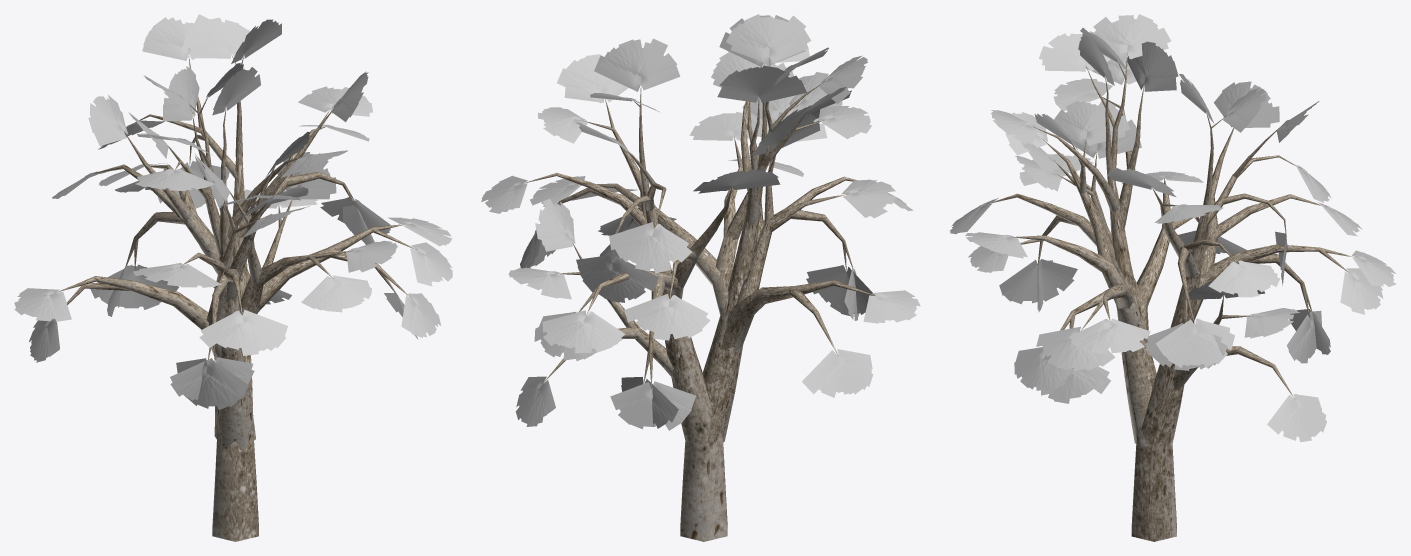
File: Desert1Trees.fbx
The picture shows the model from 3 angles, left to right: view 1: azimuth 30°, elevation 25°; view 2: azimuth 150°, elevation 25°; view 3: azimuth 270°, elevation 25°; orthographic projection. The views are drawn at different scales.
Parts seen in each view (by area): view 1: DesertTreeLeaves1_LOD0, DesertTree1_LOD0; view 2: DesertTreeLeaves1_LOD0, DesertTree1_LOD0; view 3: DesertTreeLeaves1_LOD0, DesertTree1_LOD0.
Boxes of the visible parts, x1,y1,x2,y2 form: DesertTreeLeaves1_LOD0: [14, 14, 452, 409]; DesertTree1_LOD0: [51, 53, 416, 541]; DesertTreeLeaves1_LOD0: [481, 14, 920, 430]; DesertTree1_LOD0: [522, 57, 876, 541]; DesertTreeLeaves1_LOD0: [950, 14, 1395, 442]; DesertTree1_LOD0: [988, 53, 1357, 541].
Size of what is drawn, in the model's own units: 5.72 by 6.76 by 5.7.
